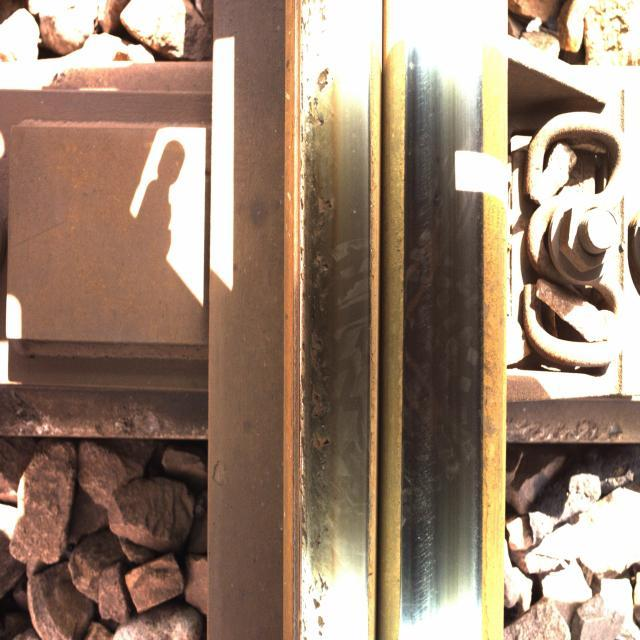scar: (296, 2, 352, 638)
